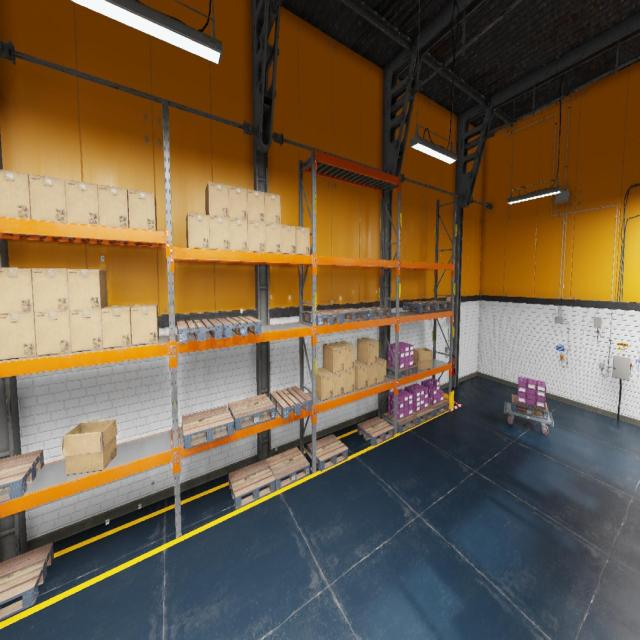box: (62, 419, 117, 475), (28, 174, 66, 222), (34, 311, 72, 356), (0, 312, 36, 359), (67, 268, 107, 310), (32, 268, 69, 312), (0, 267, 34, 314), (0, 170, 31, 220), (65, 180, 99, 225), (69, 309, 103, 352), (101, 305, 133, 349), (98, 184, 129, 228), (128, 189, 157, 230), (130, 304, 158, 345), (205, 182, 229, 218), (186, 212, 210, 248), (210, 216, 230, 250), (312, 368, 333, 400), (228, 185, 247, 220), (323, 342, 344, 372), (229, 218, 248, 251), (334, 341, 355, 370), (247, 189, 265, 222), (357, 337, 378, 364), (248, 220, 265, 252), (357, 360, 377, 386), (280, 224, 296, 254), (265, 223, 281, 253), (265, 192, 280, 224), (296, 226, 310, 255), (414, 348, 432, 370), (355, 360, 368, 389), (333, 370, 344, 397), (344, 368, 355, 393), (378, 358, 387, 383)
pallets: (0, 542, 54, 620), (0, 449, 44, 503), (228, 460, 276, 509), (182, 406, 234, 450), (265, 447, 310, 490), (228, 394, 276, 431), (307, 434, 348, 471), (270, 386, 312, 419), (177, 318, 222, 343), (358, 416, 394, 446), (217, 316, 261, 338), (512, 395, 548, 420), (383, 412, 418, 432), (303, 310, 343, 326), (327, 308, 367, 322), (357, 306, 391, 320), (386, 363, 417, 378), (413, 406, 434, 424), (403, 301, 436, 312), (428, 400, 449, 416), (420, 300, 451, 310)
